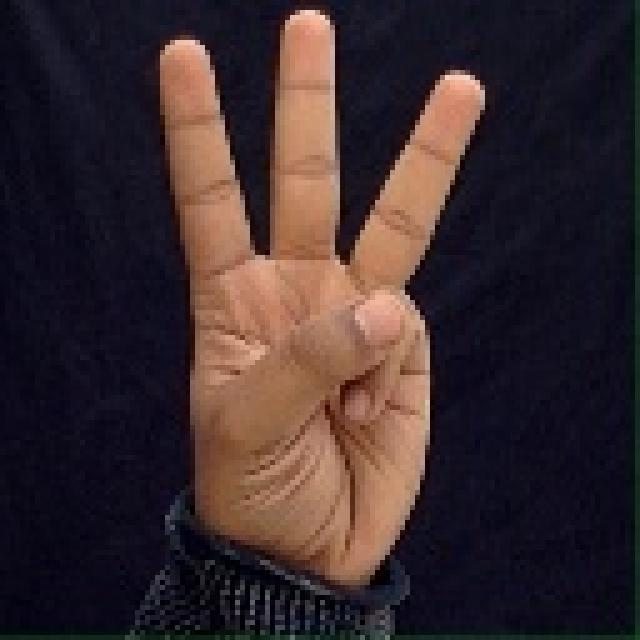Please: (127, 0, 514, 640)
